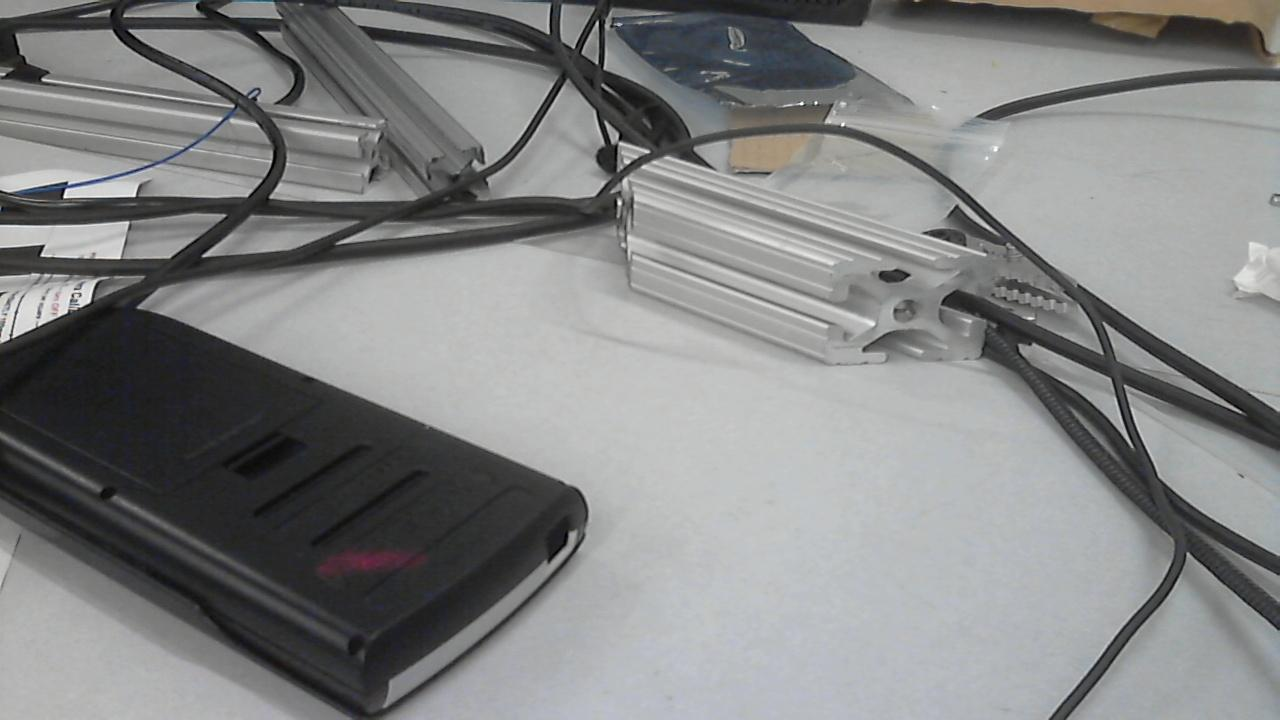Object graphing calculator slide case - Material plastic - Pdfname as1D2765rACT: (280, 522, 457, 591)
